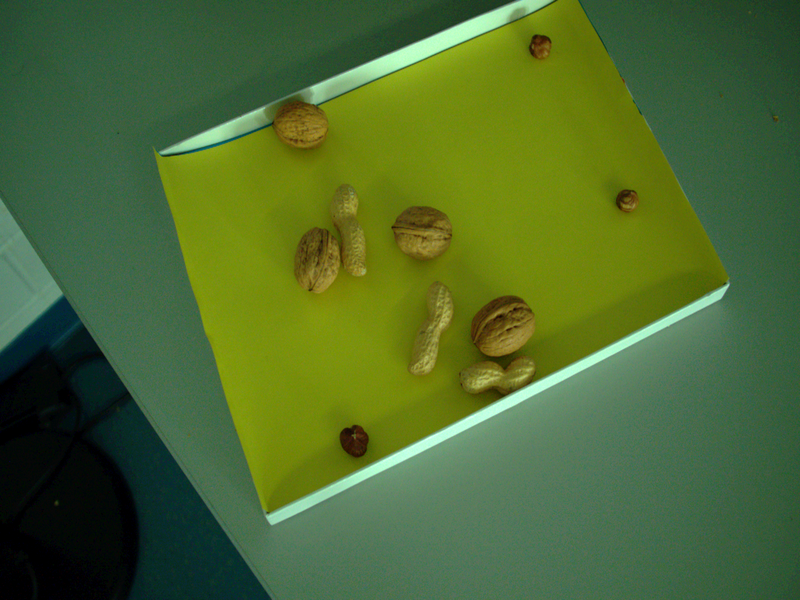walnut: (468, 293, 539, 363), (385, 203, 460, 264), (290, 223, 346, 302), (270, 98, 336, 152)
